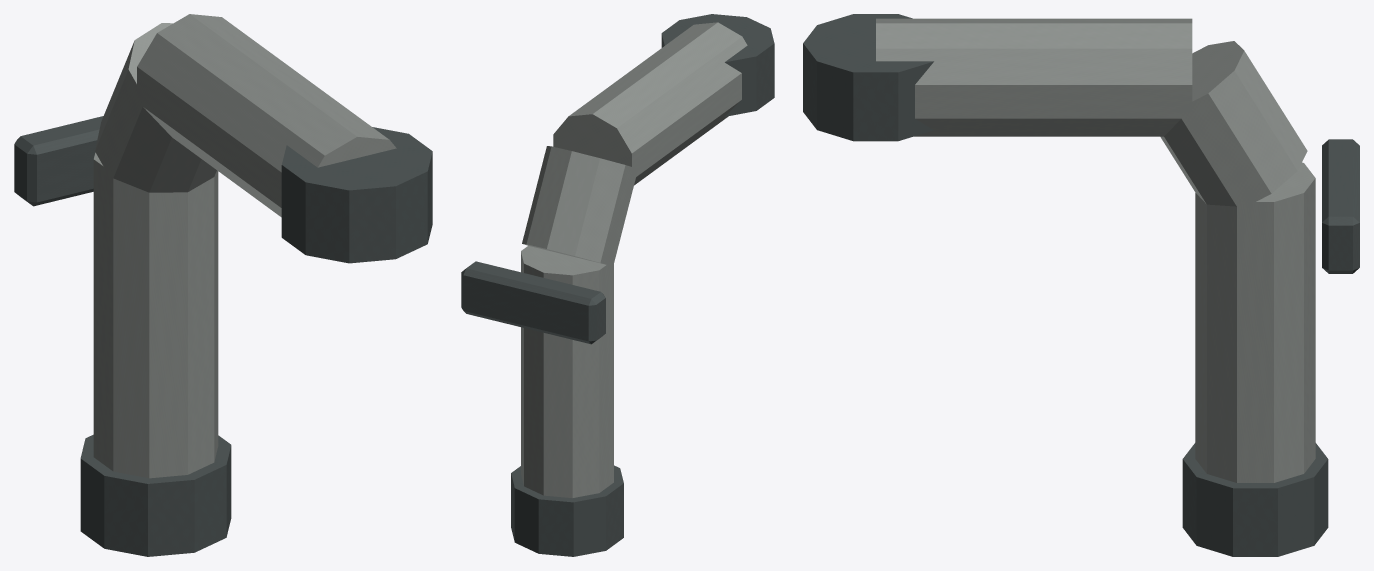
Rendered from D_Drain_Elbow_visual.glb.
3 views of the same model, side by side, from view 1: azimuth 30°, elevation 25°; view 2: azimuth 150°, elevation 25°; view 3: azimuth 270°, elevation 25° (orthographic). The views are drawn at different scales.
Parts seen in each view (by area): view 1: D_Drain_Elbow__VIS; view 2: D_Drain_Elbow__VIS; view 3: D_Drain_Elbow__VIS.
Boxes of the visible parts, bbox=[...] form: D_Drain_Elbow__VIS: bbox=[14, 14, 432, 556]; D_Drain_Elbow__VIS: bbox=[461, 14, 774, 556]; D_Drain_Elbow__VIS: bbox=[803, 14, 1359, 556].
Size of the model in its own units: 0.62 by 1.76 by 1.76.
1 material, 1 textured.
